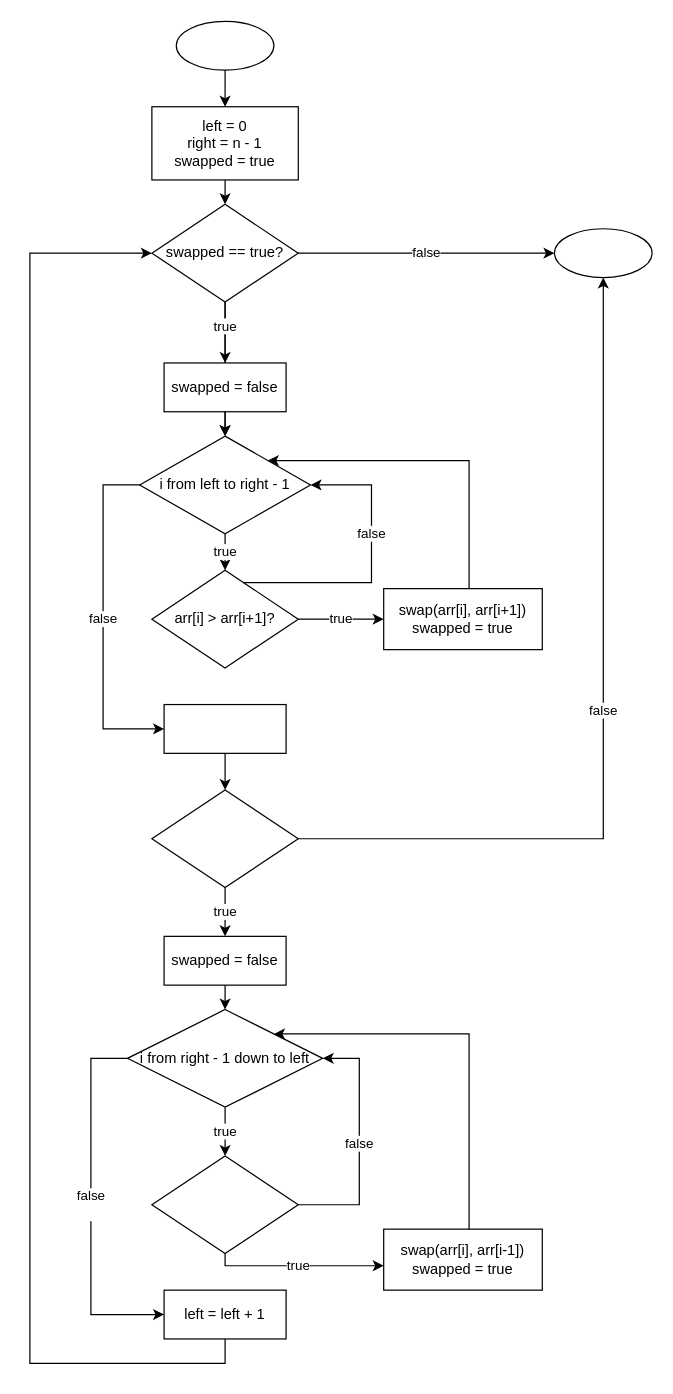
This 673x1394 diagram has some shape labels left out. The centre of each missing label's shape, as x and y in pixels:
"arr[i] < arr[i-1]?" belongs at (224,1204).
"End" belongs at (602,253).
"right = right - 1" belongs at (224,728).
"Start" belongs at (224,45).
"swapped == false" belongs at (224,838).
